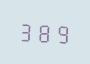eight: (36, 19, 52, 44)
nine: (53, 20, 69, 45)
three: (18, 18, 34, 43)
